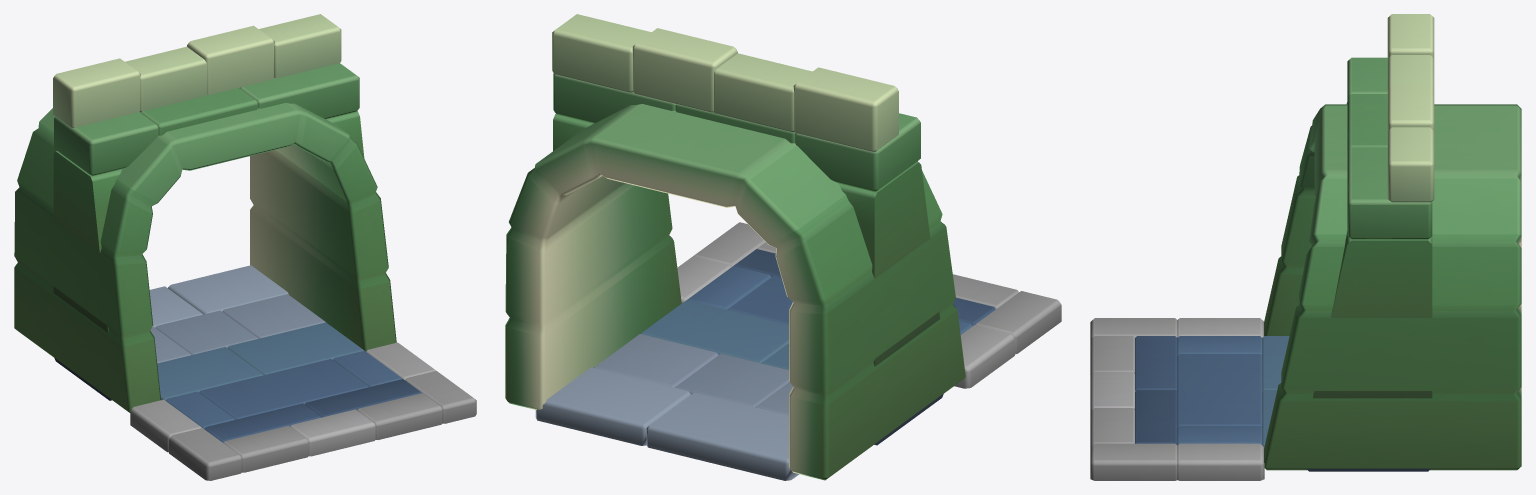
The model's file is doorway_entrance_light_walkable.fbx.
3 views of the same model, side by side, from view 1: azimuth 30°, elevation 25°; view 2: azimuth 150°, elevation 25°; view 3: azimuth 270°, elevation 25° (orthographic). The views are drawn at different scales.
Visible parts, largest first — view 1: doorway_entrance_light_walkable; view 2: doorway_entrance_light_walkable; view 3: doorway_entrance_light_walkable.
Boxes of the visible parts, x1,y1,x2,y2 form: doorway_entrance_light_walkable: (14, 14, 476, 480); doorway_entrance_light_walkable: (505, 14, 1061, 480); doorway_entrance_light_walkable: (1090, 14, 1521, 480).
Bounding box in the file's own units: 405 × 420 × 508.
